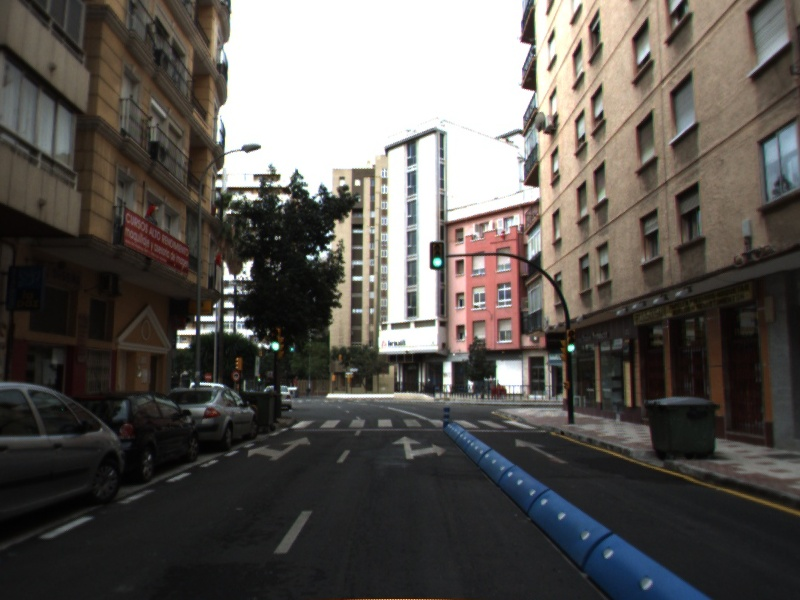STRAIGHT: (512, 437, 572, 466)
STRAIGHT_LEFT: (245, 435, 313, 462)
STRAIGHT_RIGHT: (389, 434, 449, 461)
